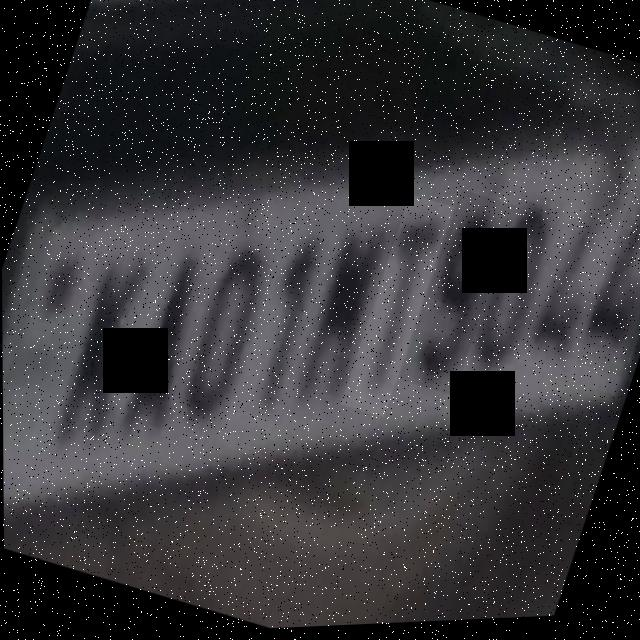0: (164, 236, 280, 459), (461, 193, 566, 387)
1: (223, 221, 342, 438)
4: (516, 178, 629, 383), (573, 177, 640, 384)
9: (396, 192, 516, 402)
A: (105, 242, 226, 459)
K: (38, 235, 168, 472)
M: (278, 213, 398, 436)
T: (338, 196, 454, 422)
